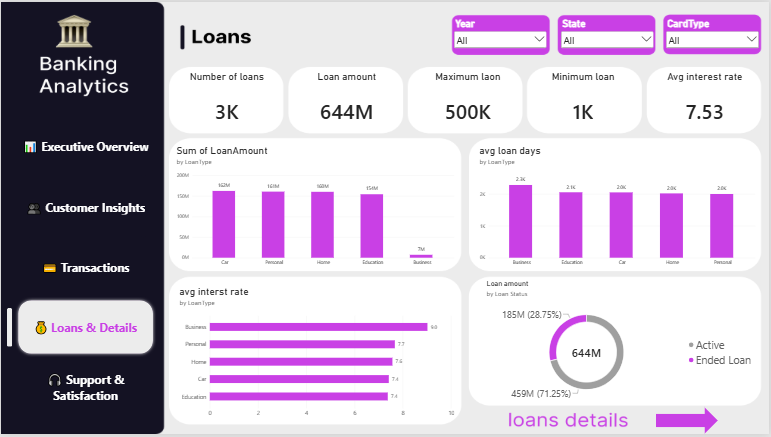

The dashboard page shown, as its layout file describes it:
{"tool":"powerbi","page":{"name":"Loan_page","canvas":[1920,1080],"ordinal":3},"visuals":[{"type":"shape","box":[1637.5,1012.5,155,67.5],"z":0},{"type":"cardVisual","title":"Number of loans","fields":{"Data":["loans measure.number loans"]},"box":[422.9,170,284.3,157.1],"z":1},{"type":"cardVisual","title":"Loan amount","fields":{"Data":["loans measure.laon amount"]},"box":[722.9,170,284.3,157.1],"z":2},{"type":"cardVisual","title":"Minimum loan","fields":{"Data":["loans measure.min loan"]},"box":[1308.6,170,295.7,157.1],"z":3},{"type":"cardVisual","title":"Maximum laon","fields":{"Data":["loans measure.max loan"]},"box":[1024.3,170,284.3,157.1],"z":4},{"type":"cardVisual","title":"Avg interest rate","fields":{"Data":["loans measure.avg loan amount"]},"box":[1617.1,170,284.3,157.1],"z":5},{"type":"columnChart","fields":{"Category":["Loans.LoanType"],"Y":["Sum(Loans.LoanAmount)"]},"box":[423.3,343.3,726.7,337.8],"z":6},{"type":"donutChart","fields":{"Category":["Loans.Loan Status"],"Y":["Overview_measure.Loan amount"]},"box":[1197.5,680,702.5,332.5],"z":7},{"type":"barChart","fields":{"Category":["Loans.LoanType"],"Y":["loans measure.avg interst rate"]},"box":[431.1,694.4,718.9,363.3],"z":8},{"type":"columnChart","fields":{"Category":["Loans.LoanType"],"Y":["loans measure.avg loan days"]},"box":[1178.9,343.3,722.2,337.8],"z":9},{"type":"slicer","fields":{"Values":["Accounts.CreatedDate.Variation.Date Hierarchy.Year"]},"box":[1127.5,37.5,241.2,90],"z":10},{"type":"slicer","fields":{"Values":["customers.State"]},"box":[1396,38,241.2,90],"z":11},{"type":"slicer","fields":{"Values":["Cards.CardType"]},"box":[1658,38,242,90],"z":12},{"type":"shape","box":[34.3,285.7,352.9,150],"z":13},{"type":"shape","box":[34.3,437.1,352.9,150],"z":14},{"type":"shape","box":[34.3,587.1,352.9,150],"z":15},{"type":"shape","box":[34.3,737.1,352.9,150],"z":16},{"type":"shape","box":[34.3,887.1,352.9,150],"z":17},{"type":"shape","box":[13.8,763.8,12.9,97.1],"z":18}]}

Visuals, with their boxes on the page's 1920x1080 design canvas (x1, y1, x2, y2). These are canvas units, not pixel positions in the 771x437 screenshot, which may show the page scaled, cropped or inside an application window:
shape: {"x1": 1638, "y1": 1012, "x2": 1792, "y2": 1080}
"Number of loans" cardVisual: {"x1": 423, "y1": 170, "x2": 707, "y2": 327}
"Loan amount" cardVisual: {"x1": 723, "y1": 170, "x2": 1007, "y2": 327}
"Minimum loan" cardVisual: {"x1": 1309, "y1": 170, "x2": 1604, "y2": 327}
"Maximum laon" cardVisual: {"x1": 1024, "y1": 170, "x2": 1309, "y2": 327}
"Avg interest rate" cardVisual: {"x1": 1617, "y1": 170, "x2": 1901, "y2": 327}
columnChart - Loans.LoanType x Sum(Loans.LoanAmount): {"x1": 423, "y1": 343, "x2": 1150, "y2": 681}
donutChart - Loans.Loan Status x Overview_measure.Loan amount: {"x1": 1198, "y1": 680, "x2": 1900, "y2": 1012}
barChart - Loans.LoanType x loans measure.avg interst rate: {"x1": 431, "y1": 694, "x2": 1150, "y2": 1058}
columnChart - Loans.LoanType x loans measure.avg loan days: {"x1": 1179, "y1": 343, "x2": 1901, "y2": 681}
slicer - Accounts.CreatedDate.Variation.Date Hierarchy.Year: {"x1": 1128, "y1": 38, "x2": 1369, "y2": 128}
slicer - customers.State: {"x1": 1396, "y1": 38, "x2": 1637, "y2": 128}
slicer - Cards.CardType: {"x1": 1658, "y1": 38, "x2": 1900, "y2": 128}
shape: {"x1": 34, "y1": 286, "x2": 387, "y2": 436}
shape: {"x1": 34, "y1": 437, "x2": 387, "y2": 587}
shape: {"x1": 34, "y1": 587, "x2": 387, "y2": 737}
shape: {"x1": 34, "y1": 737, "x2": 387, "y2": 887}
shape: {"x1": 34, "y1": 887, "x2": 387, "y2": 1037}
shape: {"x1": 14, "y1": 764, "x2": 27, "y2": 861}
